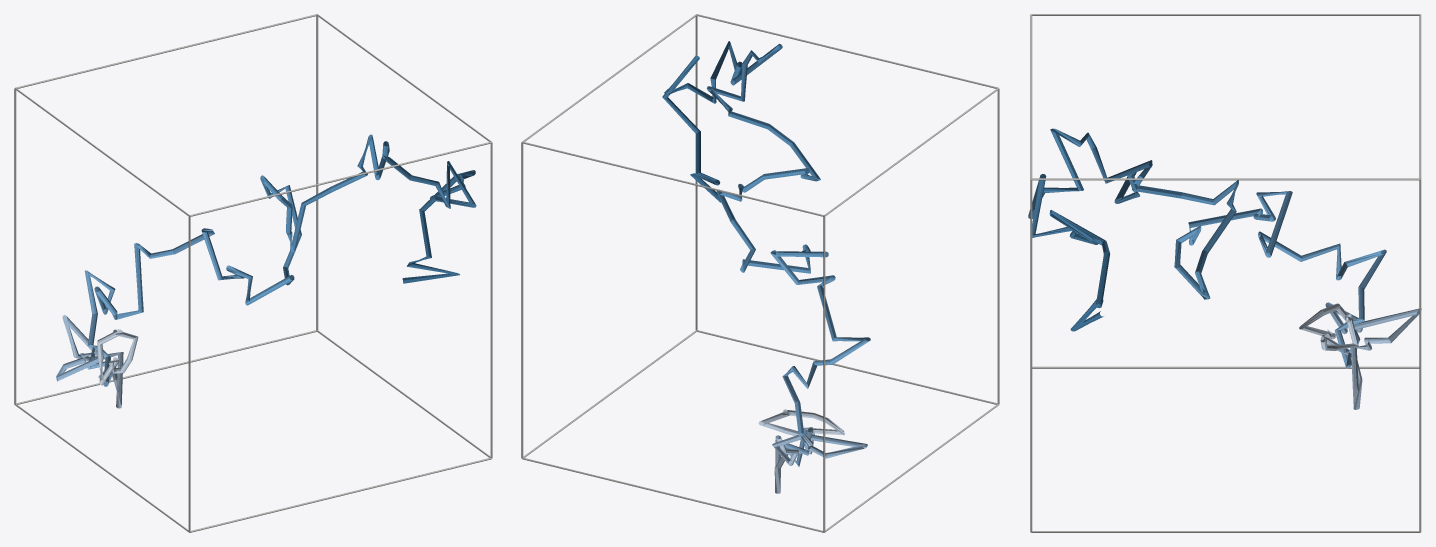
3 renders of one model, left to right at view 1: azimuth 30°, elevation 25°; view 2: azimuth 150°, elevation 25°; view 3: azimuth 270°, elevation 25°, orthographic. The views are drawn at different scales.
Parts seen in each view (by area): view 1: geometry_0, geometry_1; view 2: geometry_0, geometry_1; view 3: geometry_0, geometry_1.
Boxes of the visible parts, x1,y1,x2,y2 form: geometry_0: (56,134,476,408); geometry_1: (14,14,492,532); geometry_0: (662,41,870,493); geometry_1: (521,14,999,532); geometry_0: (1028,128,1421,409); geometry_1: (1030,14,1421,532).
Size of the model in its own units: 0.3035 by 0.3032 by 0.3035.
